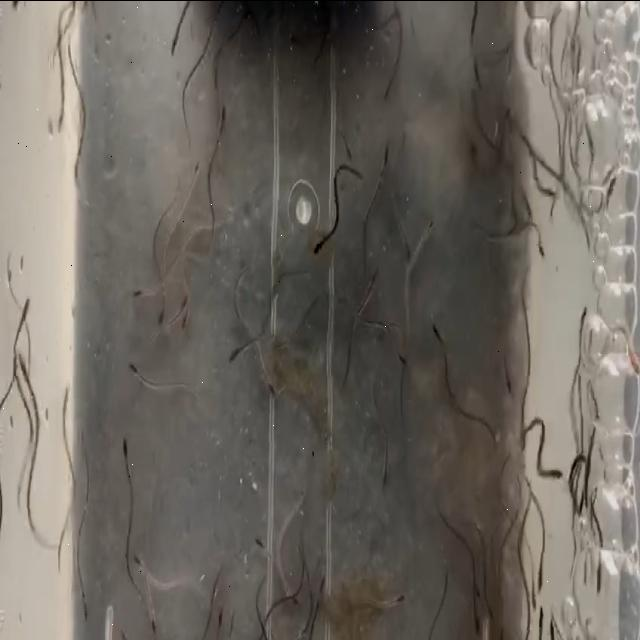active_glass_eel: (76, 567, 92, 627), (129, 266, 155, 302), (14, 286, 34, 330), (16, 360, 28, 430), (210, 554, 228, 600), (262, 357, 280, 402), (12, 340, 30, 384), (128, 550, 154, 580), (396, 227, 416, 264), (126, 353, 147, 387), (120, 426, 136, 470), (70, 156, 86, 200), (226, 338, 248, 370), (530, 596, 546, 640), (59, 382, 73, 432), (525, 564, 539, 614), (498, 347, 512, 394), (544, 459, 564, 491), (376, 136, 392, 176), (309, 232, 331, 260), (143, 602, 161, 636), (576, 296, 588, 347), (362, 258, 378, 296), (590, 554, 606, 592), (180, 294, 193, 340), (378, 446, 391, 492), (601, 170, 619, 203), (389, 578, 407, 610), (392, 339, 408, 372), (284, 576, 300, 608), (154, 300, 168, 336), (217, 96, 230, 134), (212, 598, 224, 639), (543, 610, 559, 640), (189, 146, 203, 178), (626, 346, 640, 378), (172, 288, 188, 315), (167, 28, 180, 61), (428, 312, 442, 342), (536, 556, 548, 590), (474, 600, 484, 640), (251, 532, 269, 554), (342, 136, 354, 166), (421, 216, 437, 238), (52, 107, 66, 131), (530, 238, 544, 262)
